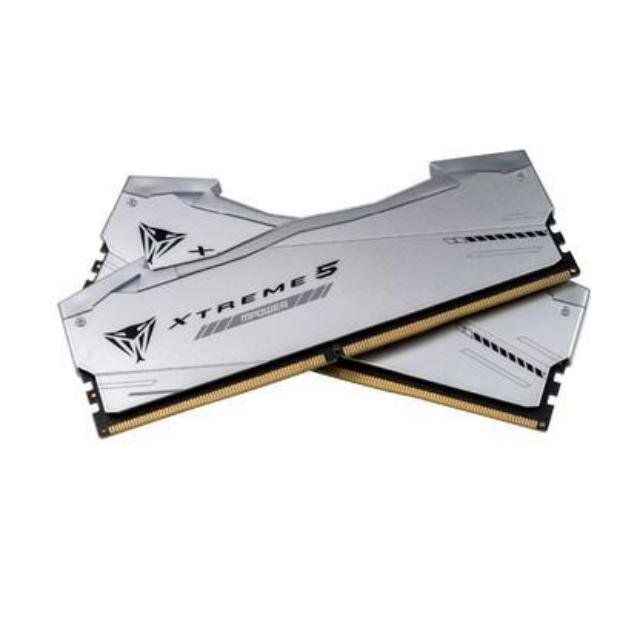RAM: (45, 140, 600, 449)
